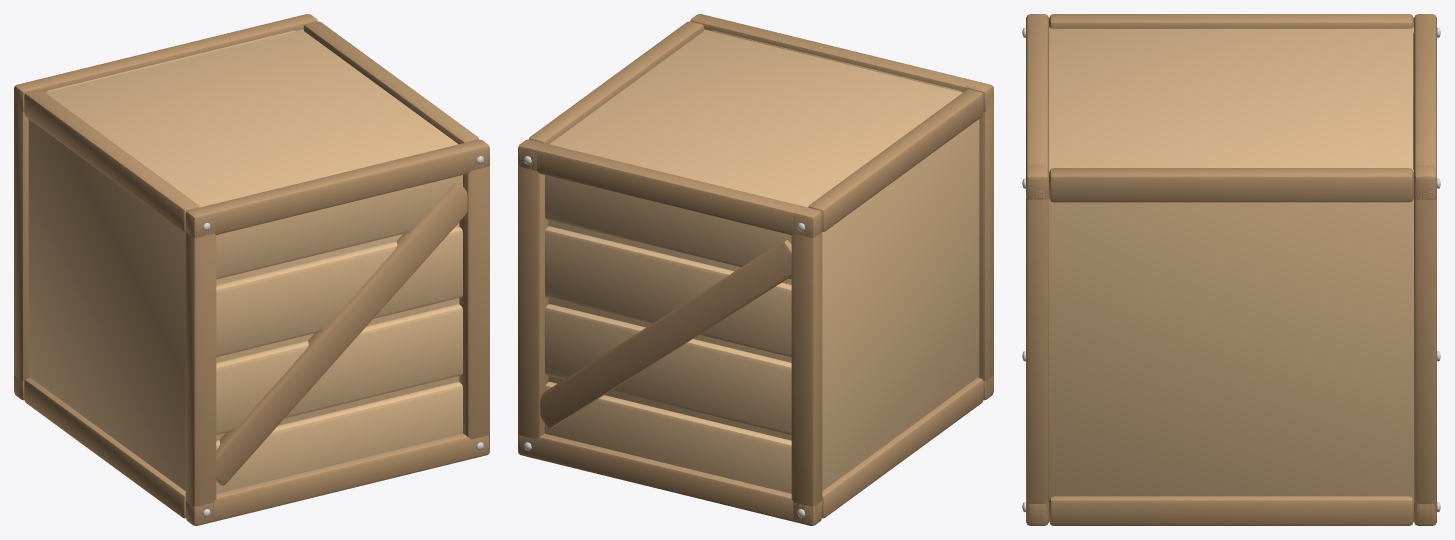
File: block_b.glb
3 views of the same model, side by side, from view 1: azimuth 30°, elevation 25°; view 2: azimuth 150°, elevation 25°; view 3: azimuth 270°, elevation 25° (orthographic). The views are drawn at different scales.
Parts seen in each view (by area): view 1: block_b; view 2: block_b; view 3: block_b.
Boxes of the visible parts, x1=… form: block_b: x1=14, y1=14, x2=489, y2=525; block_b: x1=518, y1=14, x2=993, y2=525; block_b: x1=1022, y1=14, x2=1440, y2=525.
Bounding box in the file's own units: 1 × 1 × 1.08.
